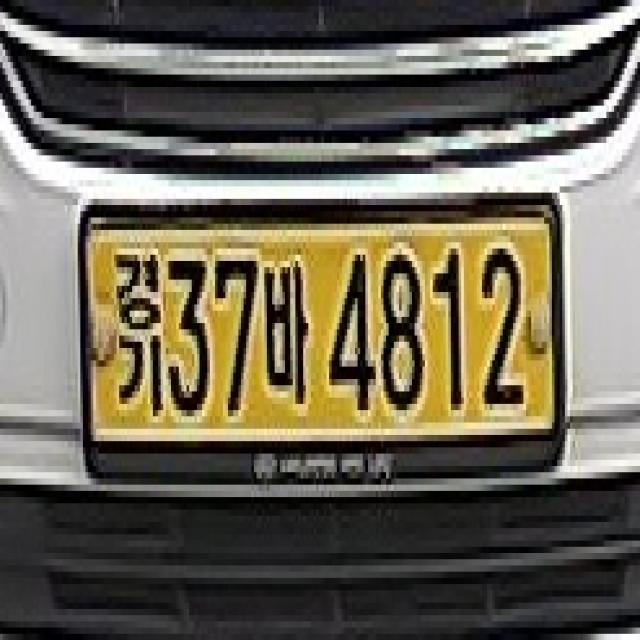plat: (79, 191, 567, 480)
